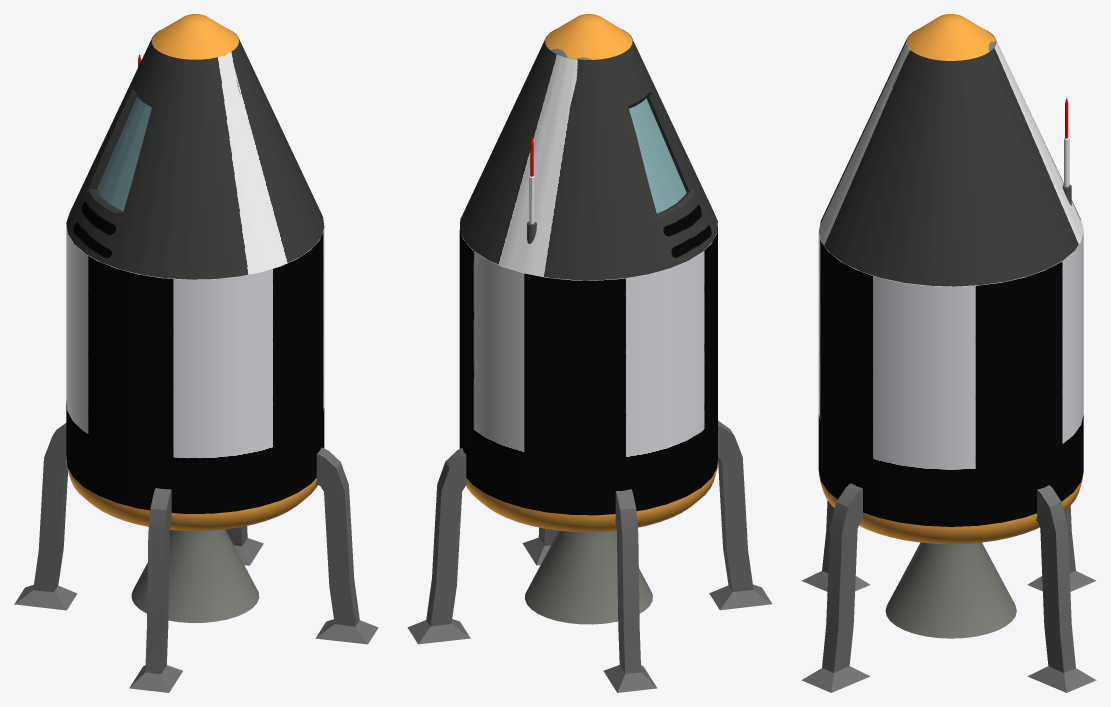
The model's file is Hooper_mk1.obj.
The picture shows the model from 3 angles, left to right: view 1: azimuth 30°, elevation 25°; view 2: azimuth 150°, elevation 25°; view 3: azimuth 270°, elevation 25°; orthographic projection. The views are drawn at different scales.
Parts seen in each view (by area): view 1: FL_T200_Fule_Tank, Mk_1_Crew_Capsule, Landing_Legs.003, Fule_Tank, Parachut; view 2: FL_T200_Fule_Tank, Mk_1_Crew_Capsule, Landing_Legs.003, Fule_Tank, Parachut, Communicatron; view 3: FL_T200_Fule_Tank, Mk_1_Crew_Capsule, Landing_Legs.003, Fule_Tank, Parachut, Communicatron.
Part boxes in pixels (x1,y1,x2,y2): FL_T200_Fule_Tank: [66, 218, 324, 513]; Mk_1_Crew_Capsule: [66, 28, 324, 279]; Landing_Legs.003: [14, 423, 378, 692]; Fule_Tank: [66, 460, 317, 622]; Parachut: [152, 14, 238, 59]; FL_T200_Fule_Tank: [459, 223, 717, 515]; Mk_1_Crew_Capsule: [460, 29, 717, 280]; Landing_Legs.003: [407, 420, 772, 692]; Fule_Tank: [466, 461, 718, 624]; Parachut: [545, 14, 632, 59]; Communicatron: [527, 137, 536, 243]; FL_T200_Fule_Tank: [818, 220, 1083, 526]; Mk_1_Crew_Capsule: [819, 30, 1083, 286]; Landing_Legs.003: [801, 483, 1096, 692]; Fule_Tank: [819, 472, 1083, 638]; Parachut: [906, 14, 995, 60]; Communicatron: [1062, 98, 1071, 205].
Bounding box in the file's own units: 2.23 × 5.1 × 2.23.
